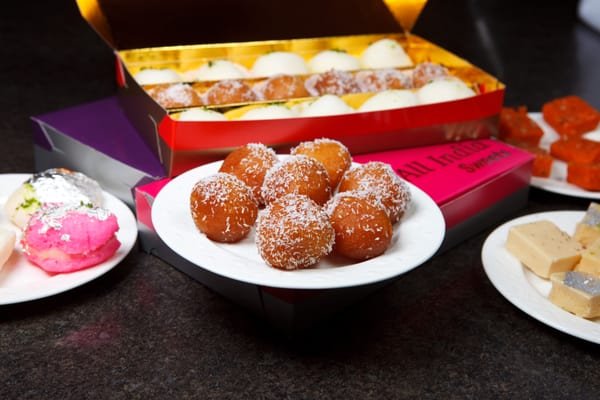curry: (0, 0, 588, 387)
salad: (255, 192, 335, 270), (189, 172, 259, 243), (329, 194, 393, 260), (257, 154, 332, 207), (292, 136, 352, 186), (218, 142, 277, 188)
